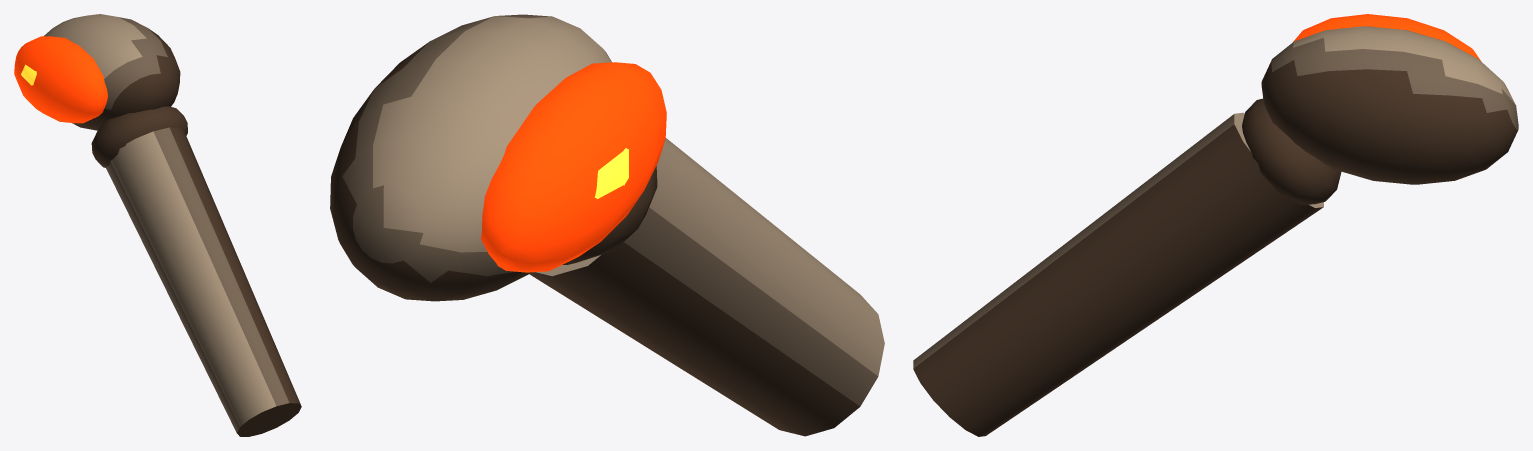
The model's file is rig_torch_l.glb.
The picture shows the model from 3 angles, left to right: view 1: azimuth 30°, elevation 25°; view 2: azimuth 150°, elevation 25°; view 3: azimuth 270°, elevation 25°; orthographic projection. The views are drawn at different scales.
Parts seen in each view (by area): view 1: rig_torch_l; view 2: rig_torch_l; view 3: rig_torch_l.
Boxes of the visible parts, x1,y1,x2,y2 form: rig_torch_l: (14,14,301,436); rig_torch_l: (330,14,884,436); rig_torch_l: (913,14,1518,436).
Size of the model in its own units: 7.6 by 16.81 by 23.07.
